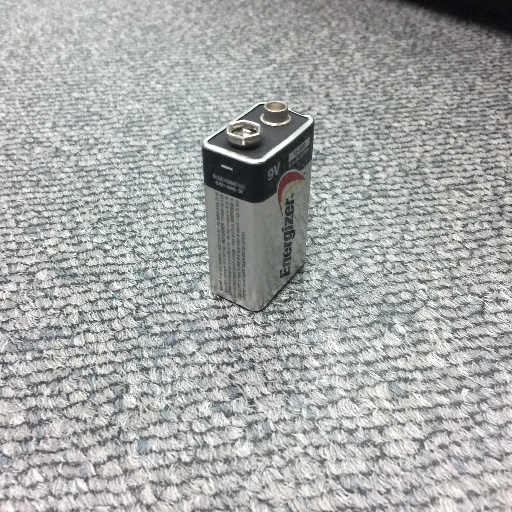Battery_3: (189, 86, 329, 319)
